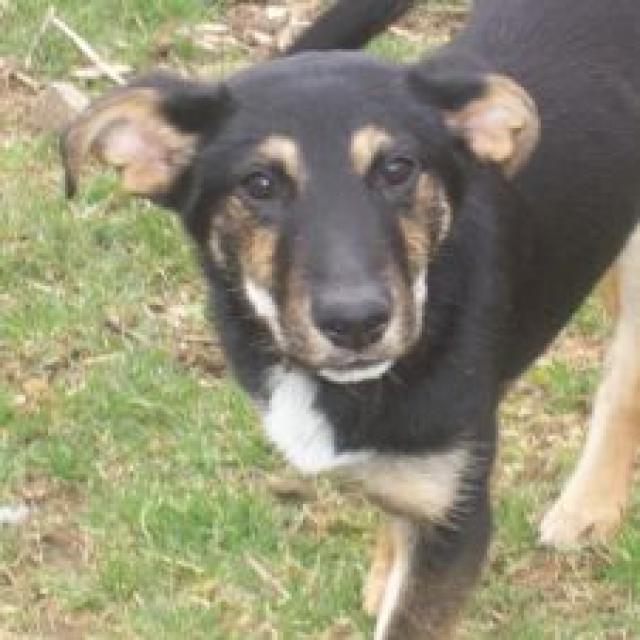Dogs: (53, 0, 637, 637)
